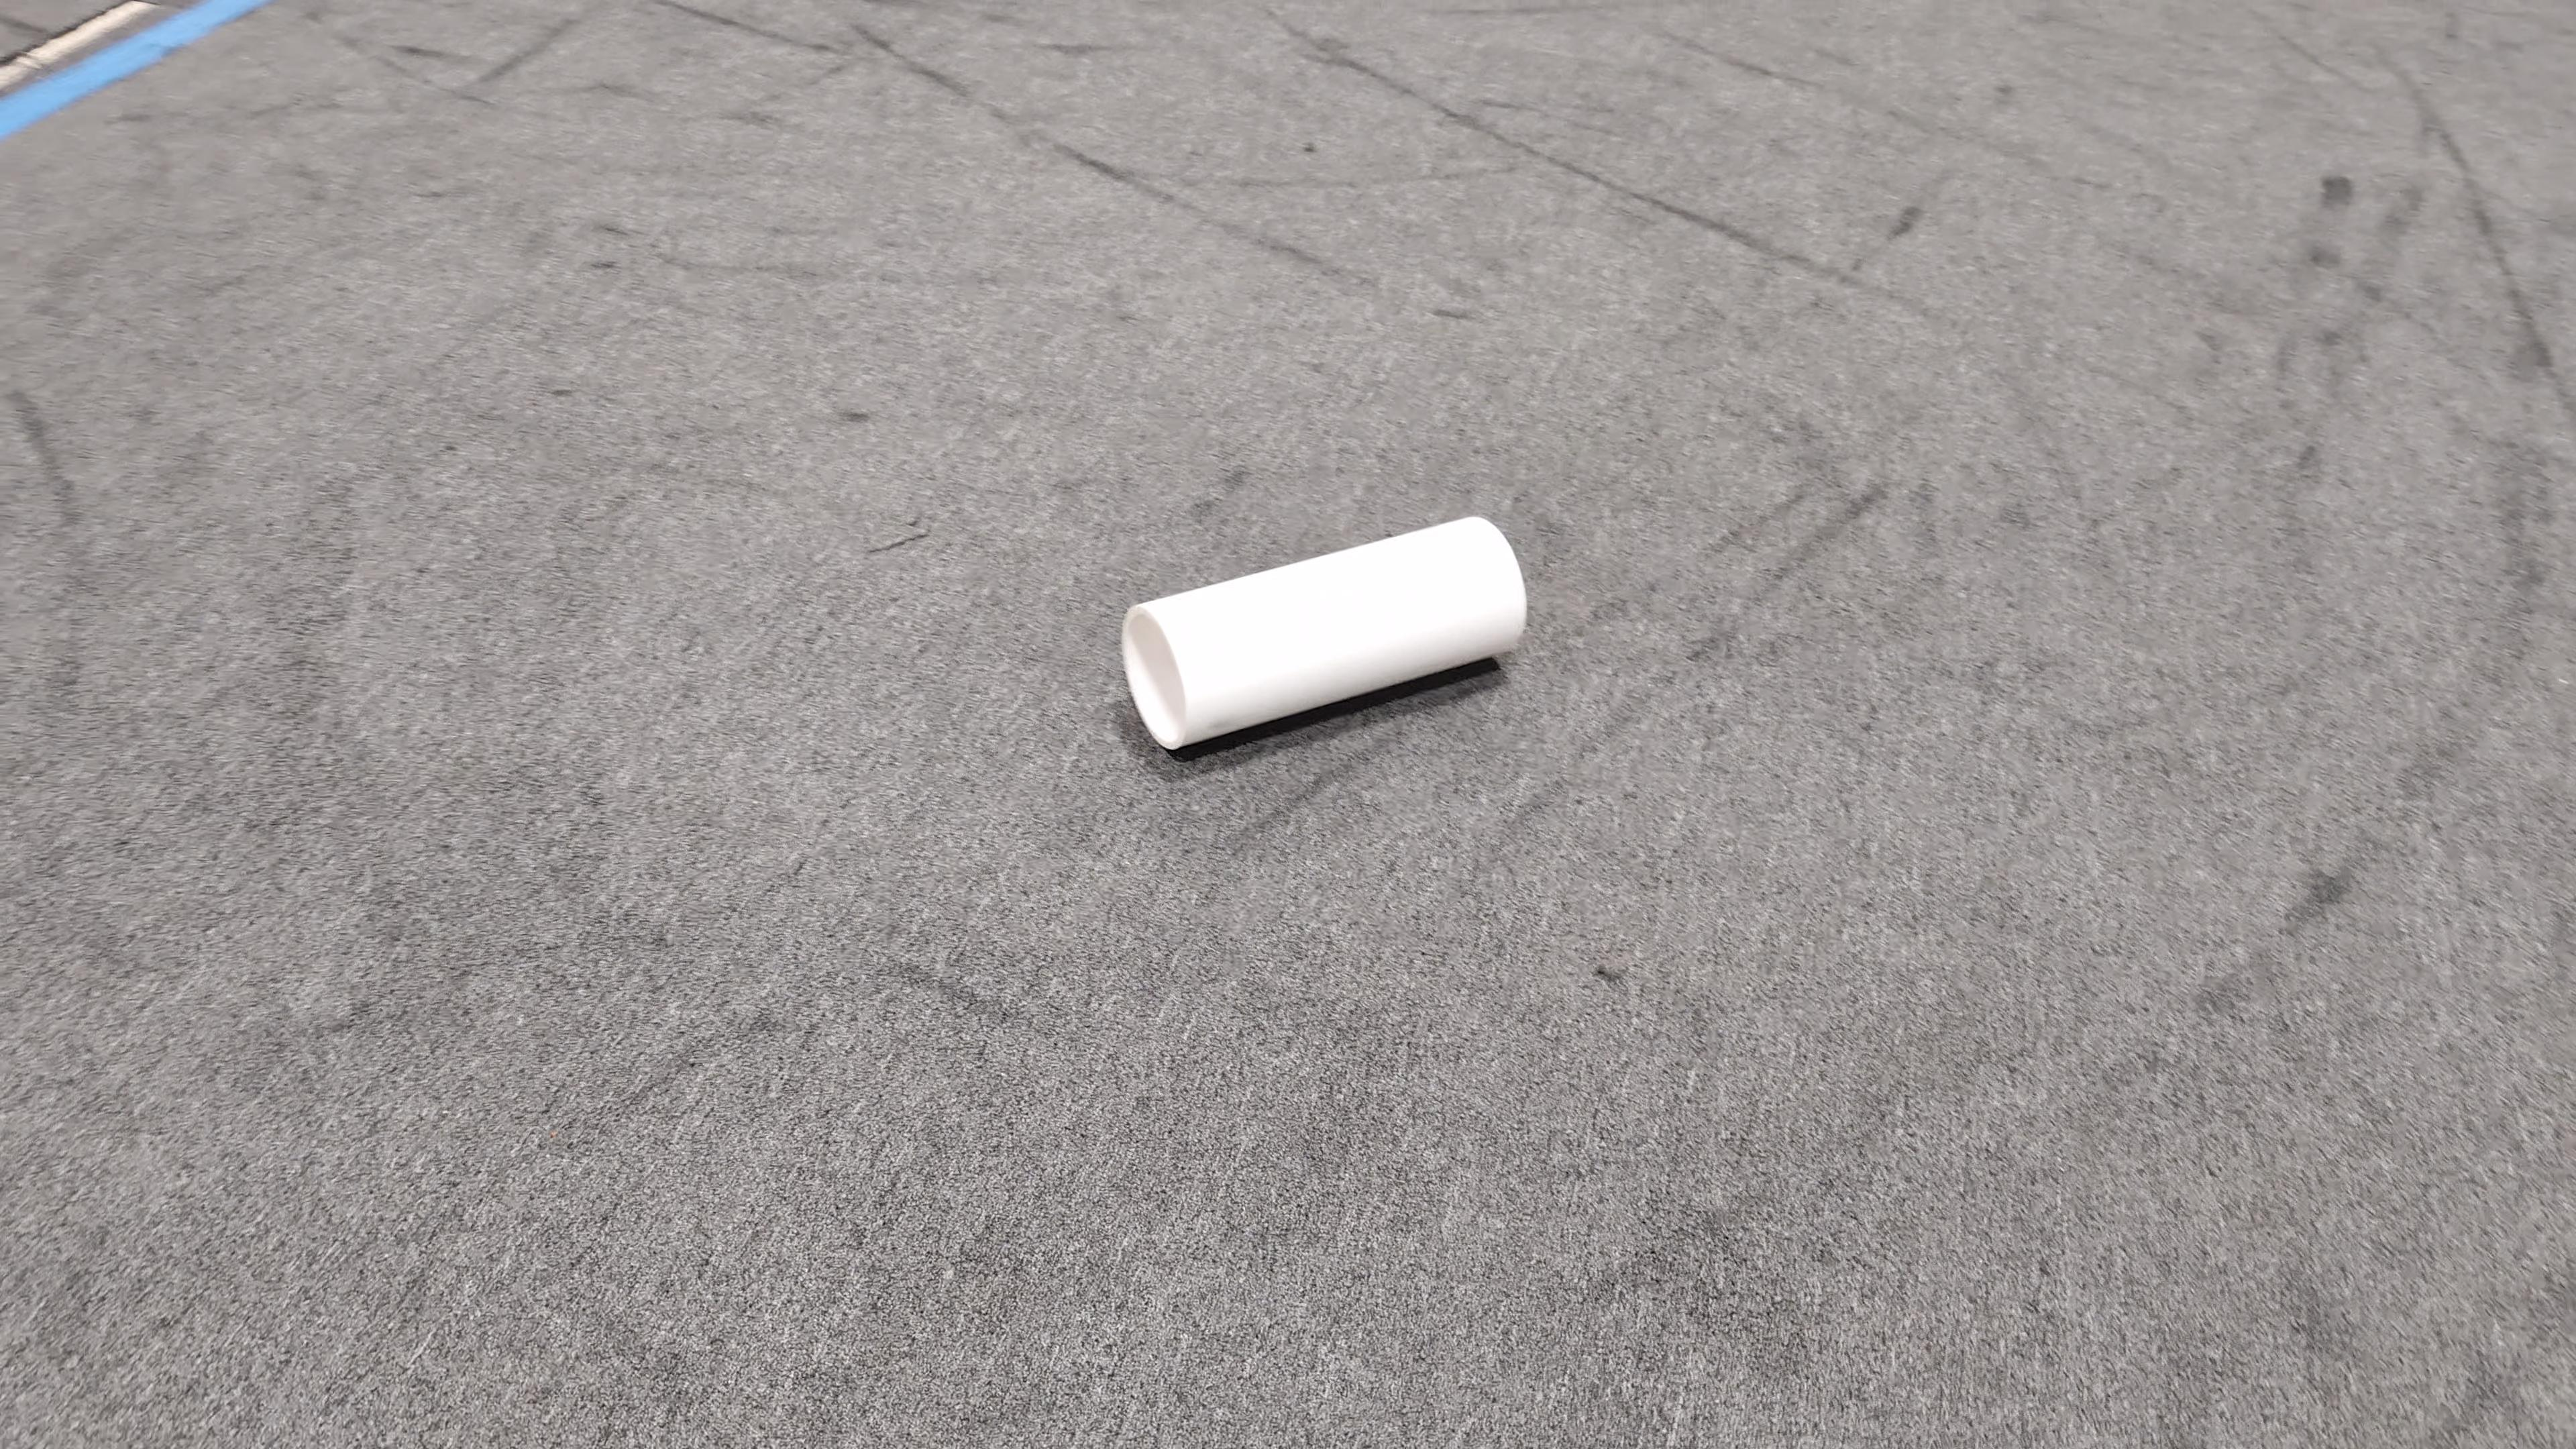coral: (1118, 510, 1529, 752)
